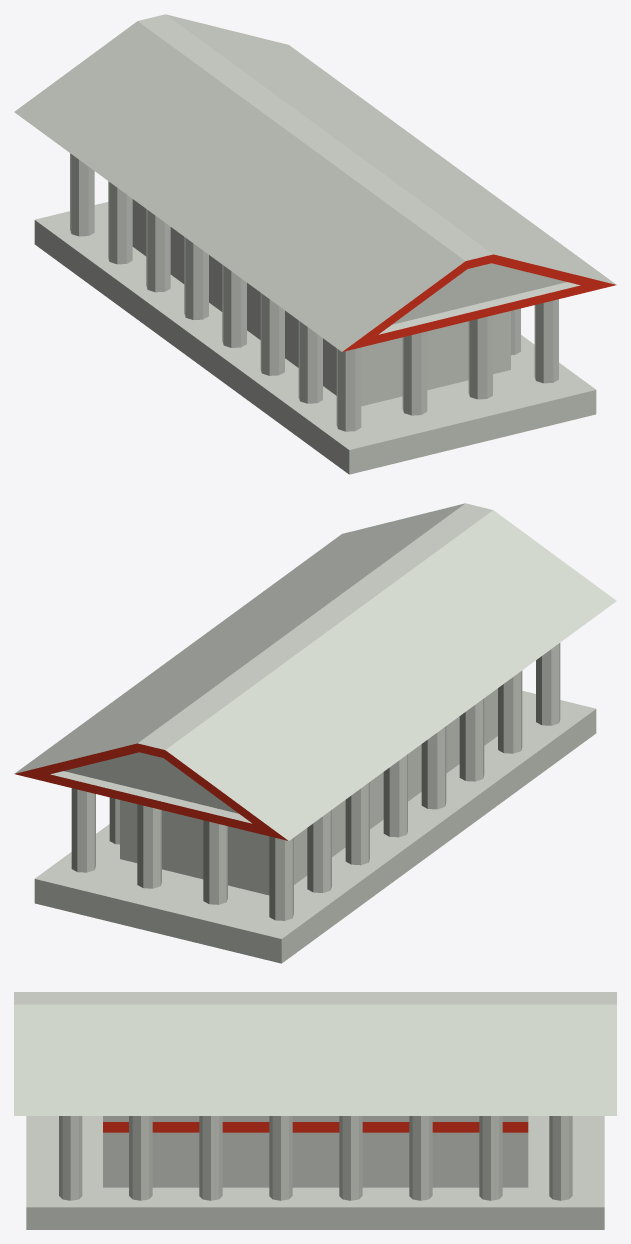
File: temple.fbx
The picture shows the model from 3 angles, top to bottom: view 1: azimuth 30°, elevation 25°; view 2: azimuth 150°, elevation 25°; view 3: azimuth 270°, elevation 25°; orthographic projection. The views are drawn at different scales.
Visible parts, largest first — view 1: Temple; view 2: Temple; view 3: Temple.
Boxes of the visible parts, x1,y1,x2,y2 form: Temple: (14, 14, 616, 474); Temple: (14, 503, 616, 963); Temple: (14, 992, 616, 1229).
Size of the model in its own units: 350 by 233 by 722.
